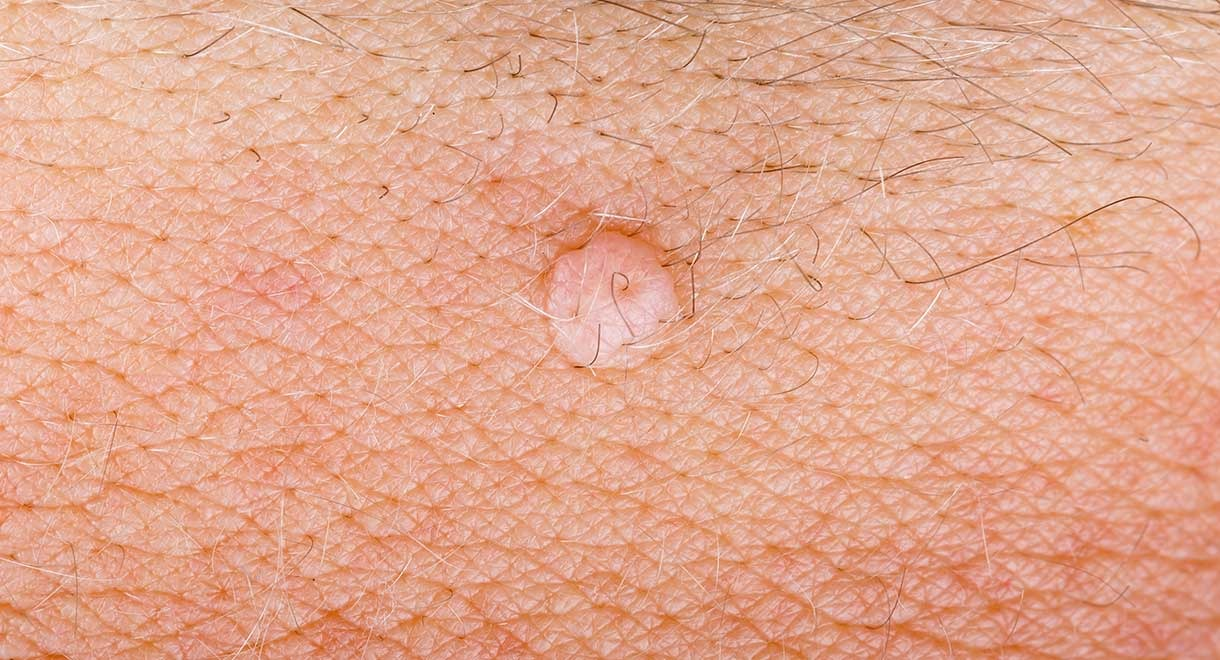Warts: (493, 178, 730, 434)
